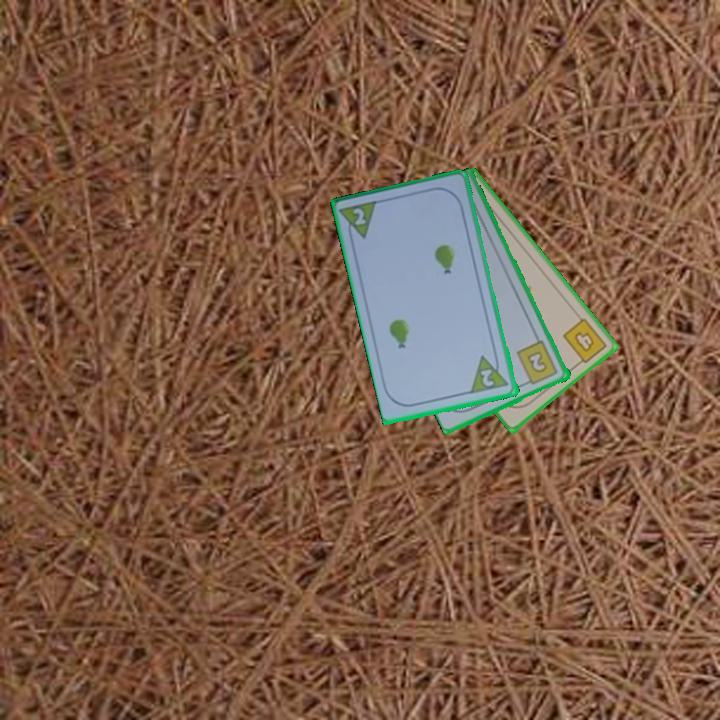2b: (514, 337, 561, 388)
2p: (468, 350, 512, 397), (349, 204, 369, 229)
4b: (559, 314, 610, 370)
